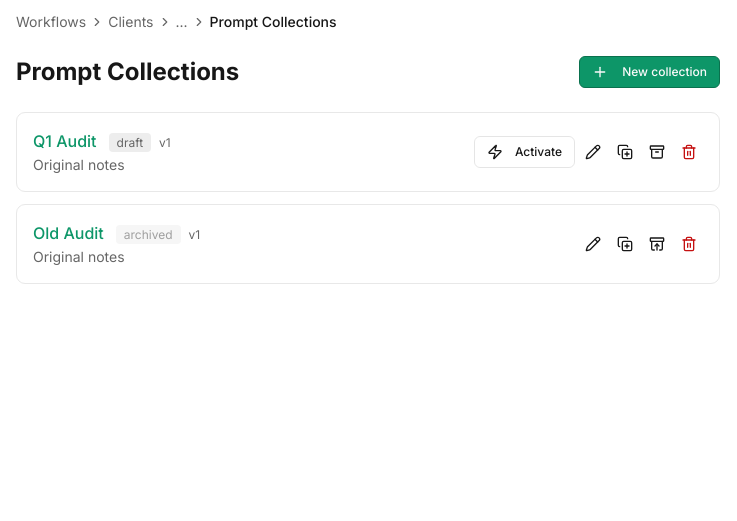
PromptCollections - edit › Edit reveals an inline form and Save PATCHes name and notes
Click the button with test id "button-edit-collection-1".
click(593, 152)  # box [579,138,607,166]
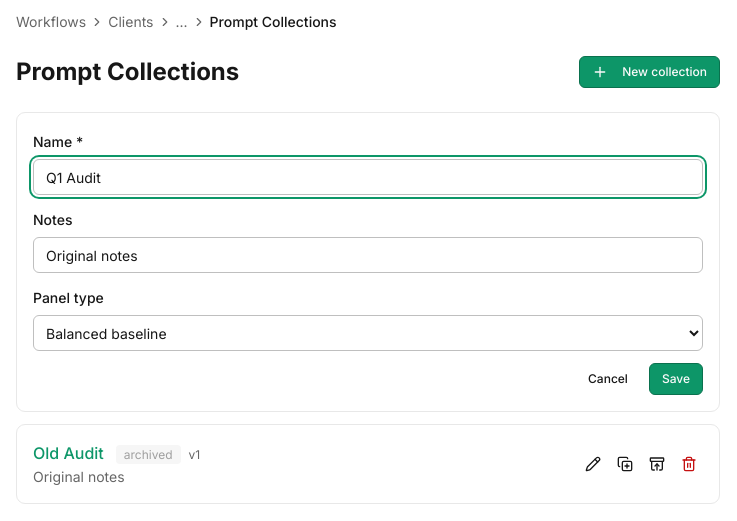
Now the field with test id "input-edit-name-1" holds "Q1 Audit"
Replace the text in the field with test id "input-edit-name-1" with "Q1 Audit Renamed" at (368, 177), box [33,159,703,195]
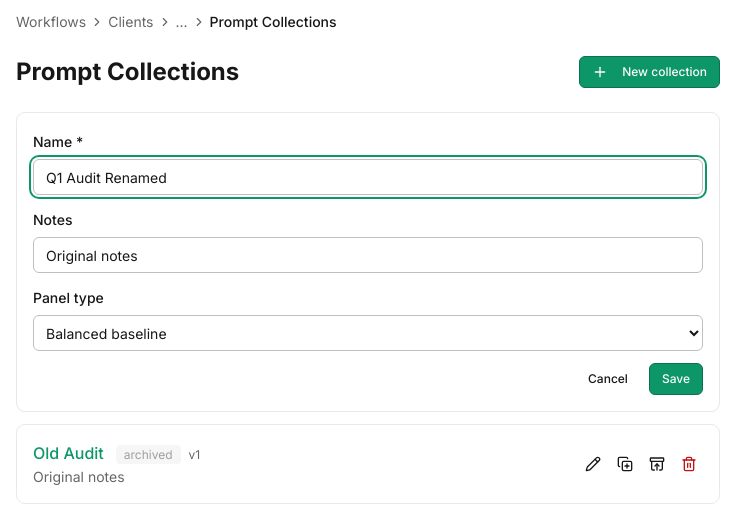
Click the button with test id "button-save-edit-1".
click(676, 379)  # box [649,363,703,395]
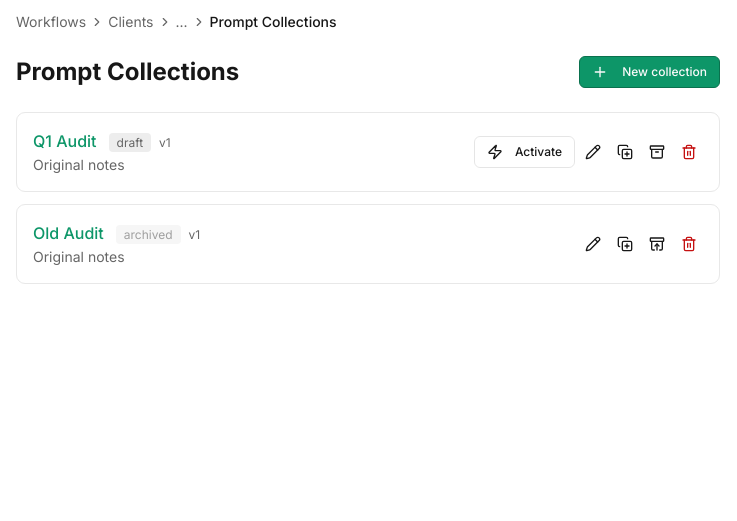
Now the text "Original notes" below "Q1 Audit" is shown, box [33,156,125,173]
